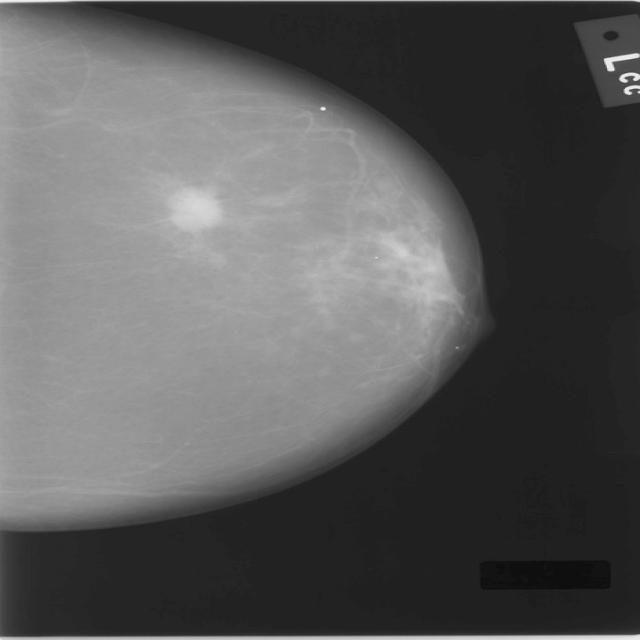tumour: (165, 185, 223, 230)
